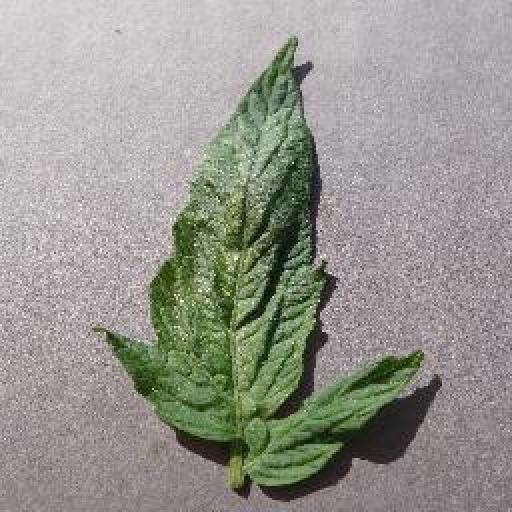disease_tomato: (99, 34, 424, 488)
